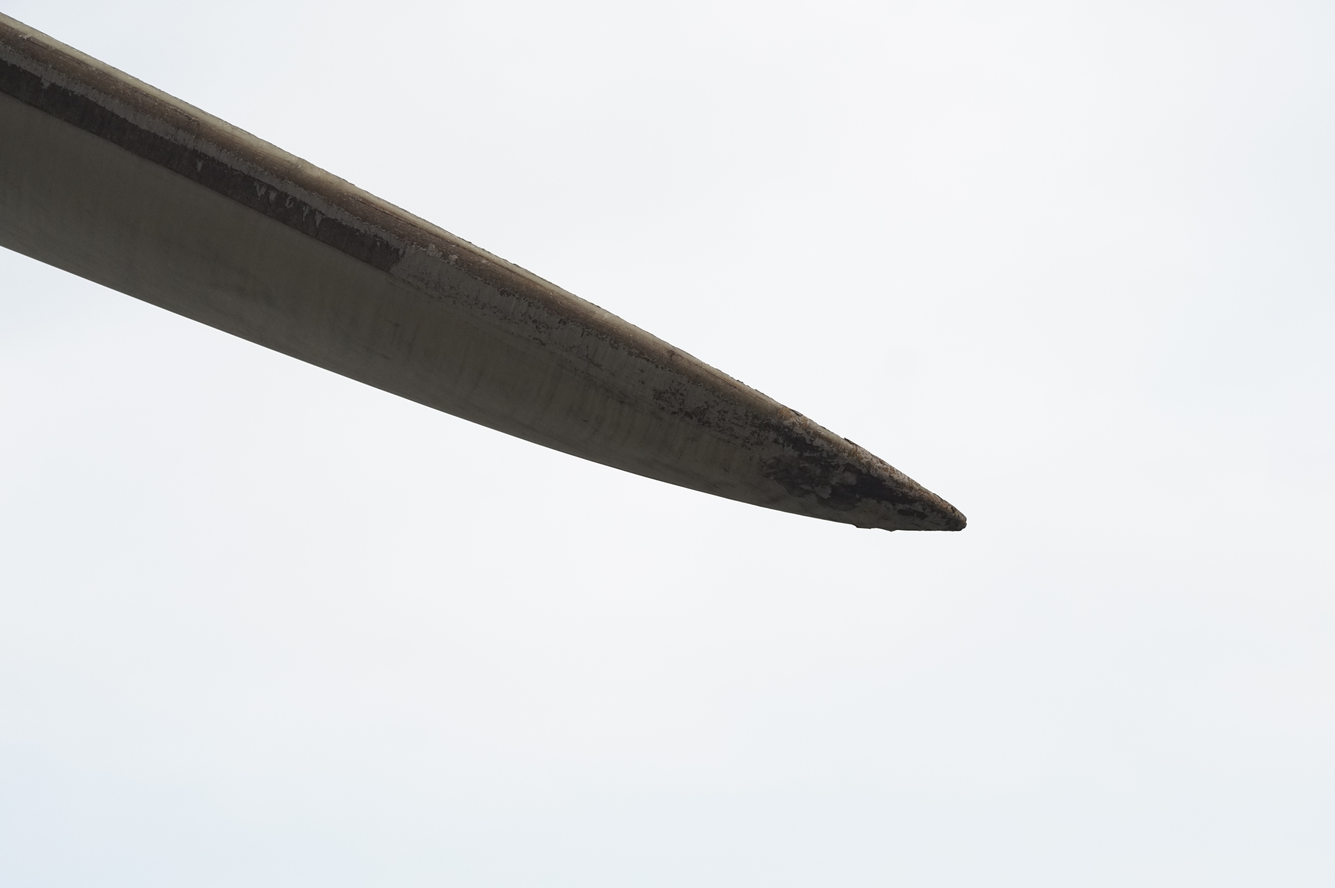Damage: (0, 11, 804, 428), (757, 436, 967, 529)
